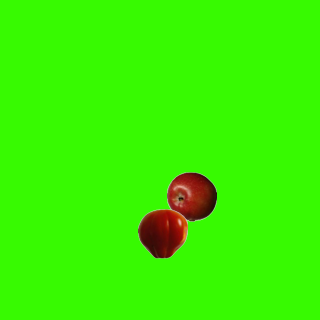Apple Braeburn: (166, 171, 216, 221)
Tomato 1: (137, 208, 187, 258)
